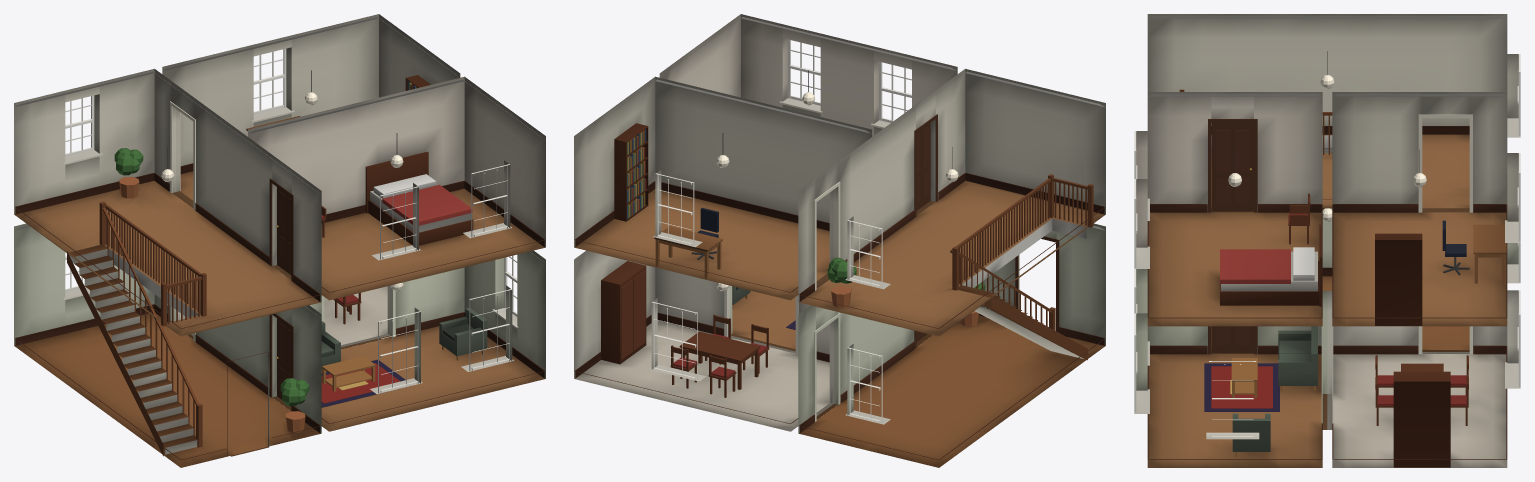
Rendered from test-interior-in.glb.
3 views of the same model, side by side, from view 1: azimuth 30°, elevation 25°; view 2: azimuth 150°, elevation 25°; view 3: azimuth 270°, elevation 25° (orthographic). The views are drawn at different scales.
Parts seen in each view (by area): view 1: room_landing-plaster, room_bedroom-plaster, room_study-plaster, room_landing-boards, room_hall-boards, room_hall-plaster, room_hall-timber, room_bedroom-boards, room_living-plaster, room_living-boards, room_hall-paint, room_bedroom-timber (+13 smaller); view 2: room_landing-plaster, room_study-plaster, room_hall-boards, room_landing-boards, room_bedroom-plaster, room_hall-plaster, room_study-boards, room_dining-tile, room_hall-timber, room_dining-timber, room_dining-plaster, room_study-timber (+9 smaller); view 3: room_landing-plaster, room_bedroom-plaster, room_study-plaster, room_study-boards, room_bedroom-boards, room_living-boards, room_dining-tile, room_dining-timber, room_study-timber, room_living-fabric, room_landing-boards, room_bedroom-fabric (+15 smaller).
Part boxes in pixels (x1,y1,x2,y2): room_landing-plaster: (14,68,321,301); room_bedroom-plaster: (248,76,545,250); room_study-plaster: (162,14,460,191); room_landing-boards: (14,180,320,336); room_hall-boards: (14,313,320,467); room_hall-plaster: (14,223,321,446); room_hall-timber: (65,201,293,456); room_bedroom-boards: (321,188,545,300); room_living-plaster: (310,250,545,383); room_living-boards: (321,326,545,431); room_hall-paint: (15,249,320,459); room_bedroom-timber: (321,151,509,259); room_landing-plaster: (798,68,1105,301); room_study-plaster: (574,76,871,261); room_hall-boards: (799,315,1105,467); room_landing-boards: (799,180,1105,336); room_bedroom-plaster: (659,14,957,136); room_hall-plaster: (798,218,1105,433); room_study-boards: (574,189,829,300); room_dining-tile: (574,320,833,431); room_hall-timber: (814,174,1093,423); room_dining-timber: (601,261,830,402); room_dining-plaster: (574,250,833,403); room_study-timber: (614,123,830,278); room_landing-plaster: (1147,14,1518,125); room_bedroom-plaster: (1136,92,1322,247); room_study-plaster: (1332,92,1518,221); room_study-boards: (1332,210,1507,326); room_bedroom-boards: (1147,211,1322,326); room_living-boards: (1147,353,1327,467); room_dining-tile: (1327,352,1507,467); room_dining-timber: (1332,290,1520,467); room_study-timber: (1375,114,1520,325); room_living-fabric: (1204,326,1317,451); room_landing-boards: (1211,134,1469,210); room_bedroom-fabric: (1220,213,1317,291).
Size of the model in its own units: 9.95 by 6.15 by 8.16.
